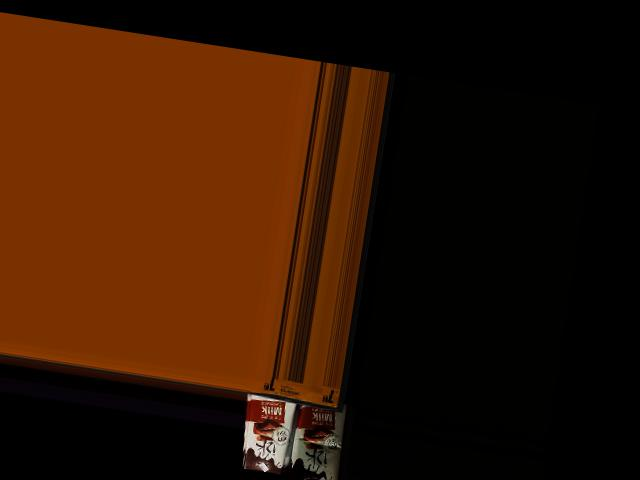chocolate: (231, 383, 297, 477)
